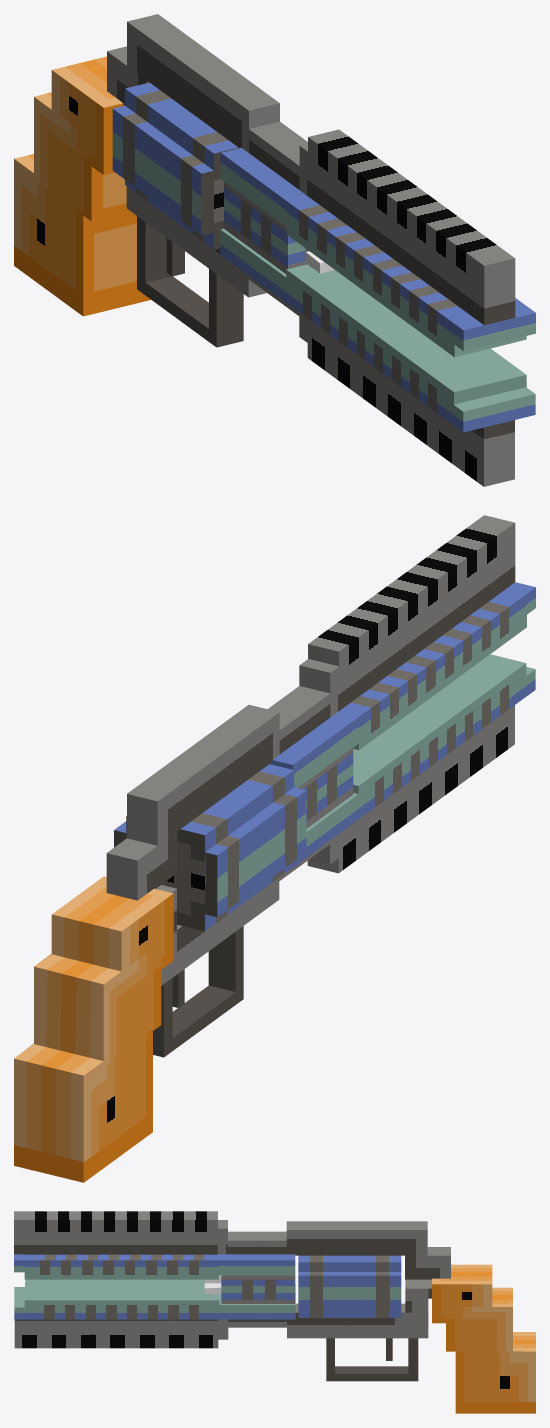
The model's file is RAIL PISTOL.fbx.
3 views of the same model, one above another, from view 1: azimuth 30°, elevation 25°; view 2: azimuth 150°, elevation 25°; view 3: azimuth 270°, elevation 25° (orthographic). The views are drawn at different scales.
Visible parts, largest first — view 1: BODY, CLIP; view 2: BODY, CLIP; view 3: BODY, CLIP.
Part boxes in pixels (x1,y1,x2,y2): BODY: (14,14,535,486); CLIP: (112,82,238,249); BODY: (14,515,535,1182); CLIP: (114,764,306,931); BODY: (14,1211,535,1413); CLIP: (298,1255,401,1317).
Bounding box in the file's own units: 15.17 × 45.52 × 114.
1 material, 1 textured.
